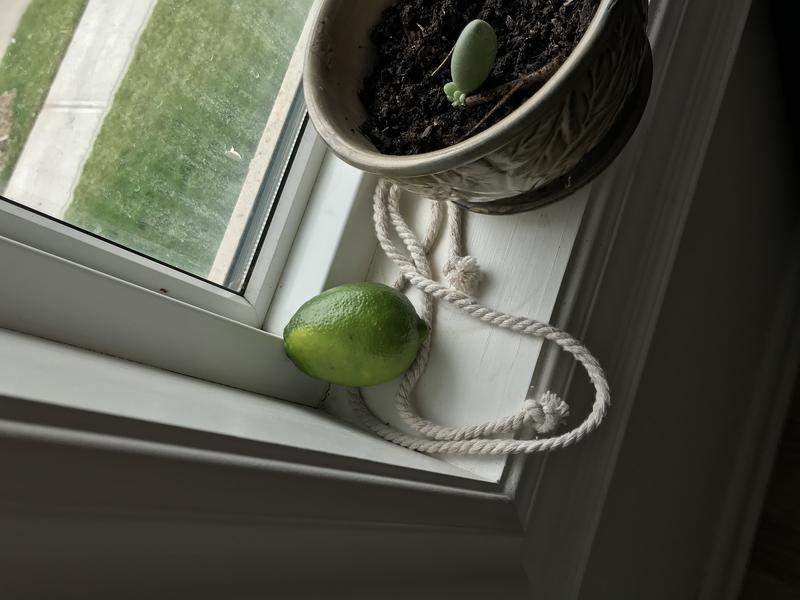lime: (274, 275, 437, 391)
